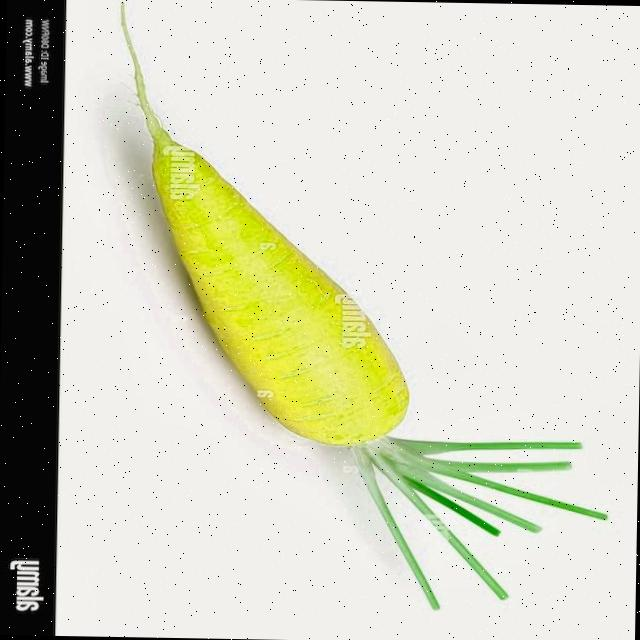carrot: (119, 3, 605, 610)
